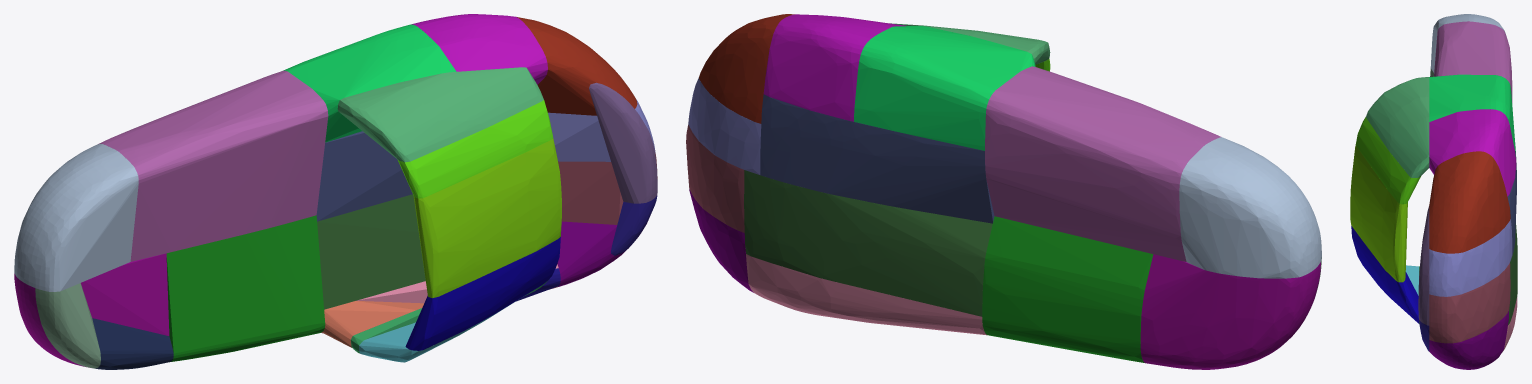
File: coacd_collision.obj
3 renders of one model, left to right at view 1: azimuth 30°, elevation 25°; view 2: azimuth 150°, elevation 25°; view 3: azimuth 270°, elevation 25°, orthographic. The views are drawn at different scales.
Visible parts, largest first — view 1: geometry_7, geometry_8, geometry_4, geometry_6, geometry_3, geometry_19, geometry_23, geometry_14, geometry_5, geometry_17, geometry_22, geometry_16 (+12 smaller); view 2: geometry_7, geometry_19, geometry_8, geometry_16, geometry_6, geometry_23, geometry_14, geometry_22, geometry_24, geometry_15, geometry_12, geometry_13 (+2 smaller); view 3: geometry_15, geometry_4, geometry_3, geometry_22, geometry_7, geometry_13, geometry_12, geometry_23, geometry_11, geometry_17, geometry_5, geometry_1 (+6 smaller).
Part boxes in pixels (x1,y1,x2,y2): geometry_7: [98, 70, 328, 261]; geometry_8: [166, 215, 325, 361]; geometry_4: [413, 138, 561, 298]; geometry_6: [14, 143, 138, 291]; geometry_3: [337, 67, 543, 162]; geometry_19: [317, 194, 425, 309]; geometry_23: [283, 24, 456, 142]; geometry_14: [14, 253, 169, 367]; geometry_5: [405, 237, 560, 350]; geometry_17: [398, 100, 553, 198]; geometry_22: [412, 14, 547, 84]; geometry_16: [316, 131, 412, 221]; geometry_7: [985, 66, 1220, 261]; geometry_19: [744, 170, 992, 316]; geometry_8: [982, 216, 1153, 363]; geometry_16: [760, 94, 994, 223]; geometry_6: [1179, 137, 1321, 278]; geometry_23: [854, 26, 1035, 150]; geometry_14: [1140, 254, 1320, 369]; geometry_22: [763, 14, 906, 121]; geometry_24: [746, 254, 987, 335]; geometry_15: [699, 14, 794, 123]; geometry_12: [688, 77, 761, 174]; geometry_13: [686, 125, 744, 232]; geometry_15: [1429, 151, 1510, 253]; geometry_4: [1350, 145, 1407, 282]; geometry_3: [1366, 77, 1429, 177]; geometry_22: [1429, 109, 1516, 196]; geometry_7: [1434, 21, 1512, 102]; geometry_13: [1429, 263, 1510, 343]; geometry_12: [1429, 219, 1512, 296]; geometry_23: [1429, 74, 1515, 156]; geometry_11: [1429, 311, 1508, 369]; geometry_17: [1355, 117, 1420, 204]; geometry_5: [1351, 226, 1418, 323]; geometry_1: [1418, 206, 1429, 325].
Size of the model in its own units: 248 by 106 by 75.79.
